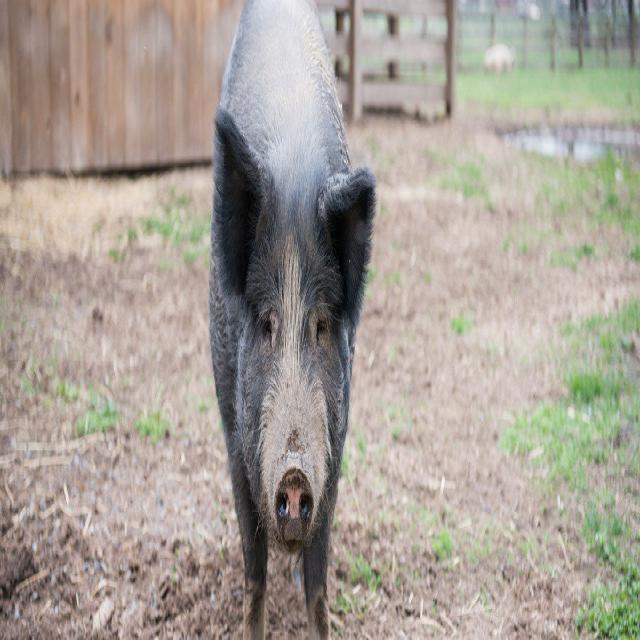pig: (209, 0, 376, 639)
